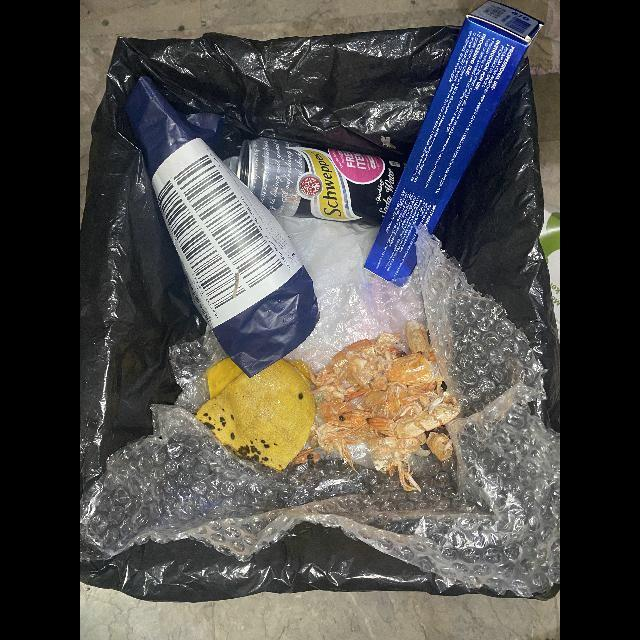aluminum: (237, 137, 407, 227)
cardboard: (364, 1, 544, 288)
left_over_food: (289, 321, 461, 492)
plastic_bag: (80, 260, 560, 593), (125, 77, 320, 379)
